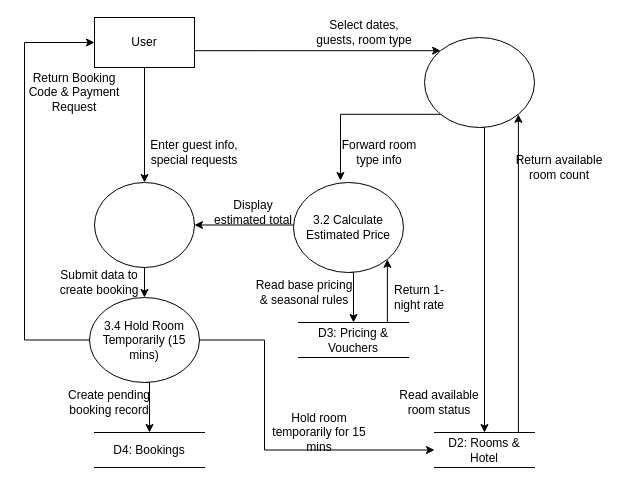
Image size: 622x485. Some labels were removed from this diagram. Here are the shapes that lost their labels. From the top down, the centre of each, then its label:
At pixel 479 82: "3.1 Check Room Availability".
At pixel 144 225: "3.3 Fill Guest Details & Requests".
